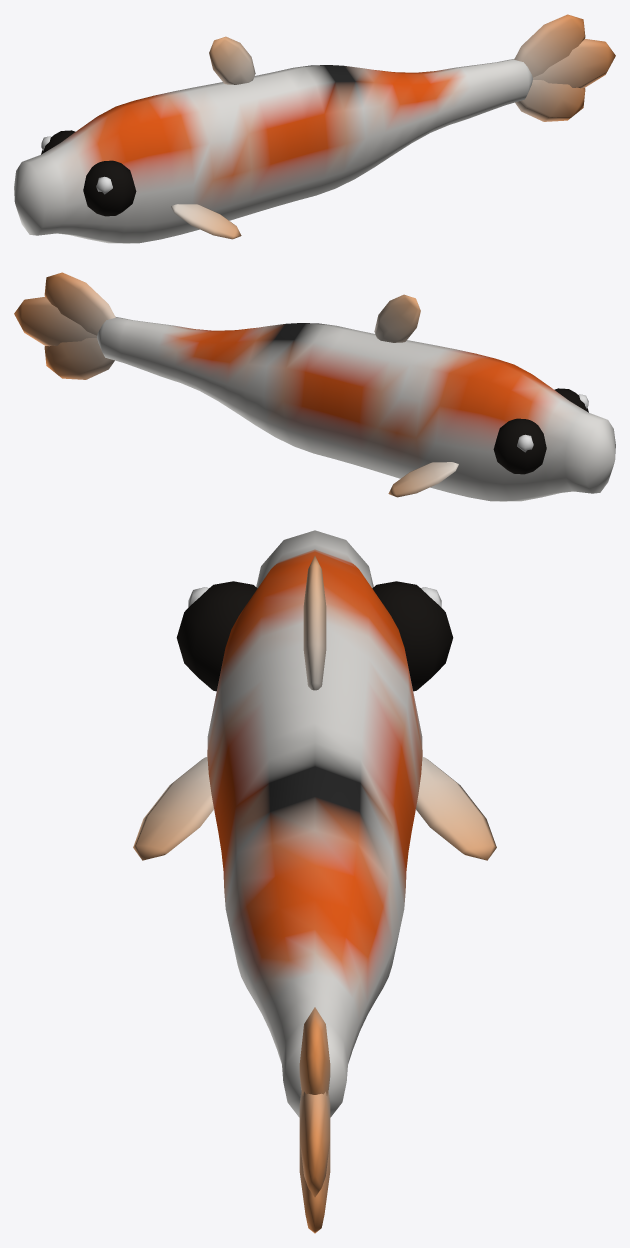
The model's file is Koi.glb.
The picture shows the model from 3 angles, top to bottom: view 1: azimuth 30°, elevation 25°; view 2: azimuth 150°, elevation 25°; view 3: azimuth 270°, elevation 25°; orthographic projection. The views are drawn at different scales.
Parts seen in each view (by area): view 1: Koi; view 2: Koi; view 3: Koi.
Part boxes in pixels (x1=…): Koi: x1=14, y1=14, x2=615, y2=243; Koi: x1=14, y1=272, x2=615, y2=501; Koi: x1=133, y1=530, x2=496, y2=1233.
Size of the model in its own units: 1.61 by 0.4702 by 0.422.
